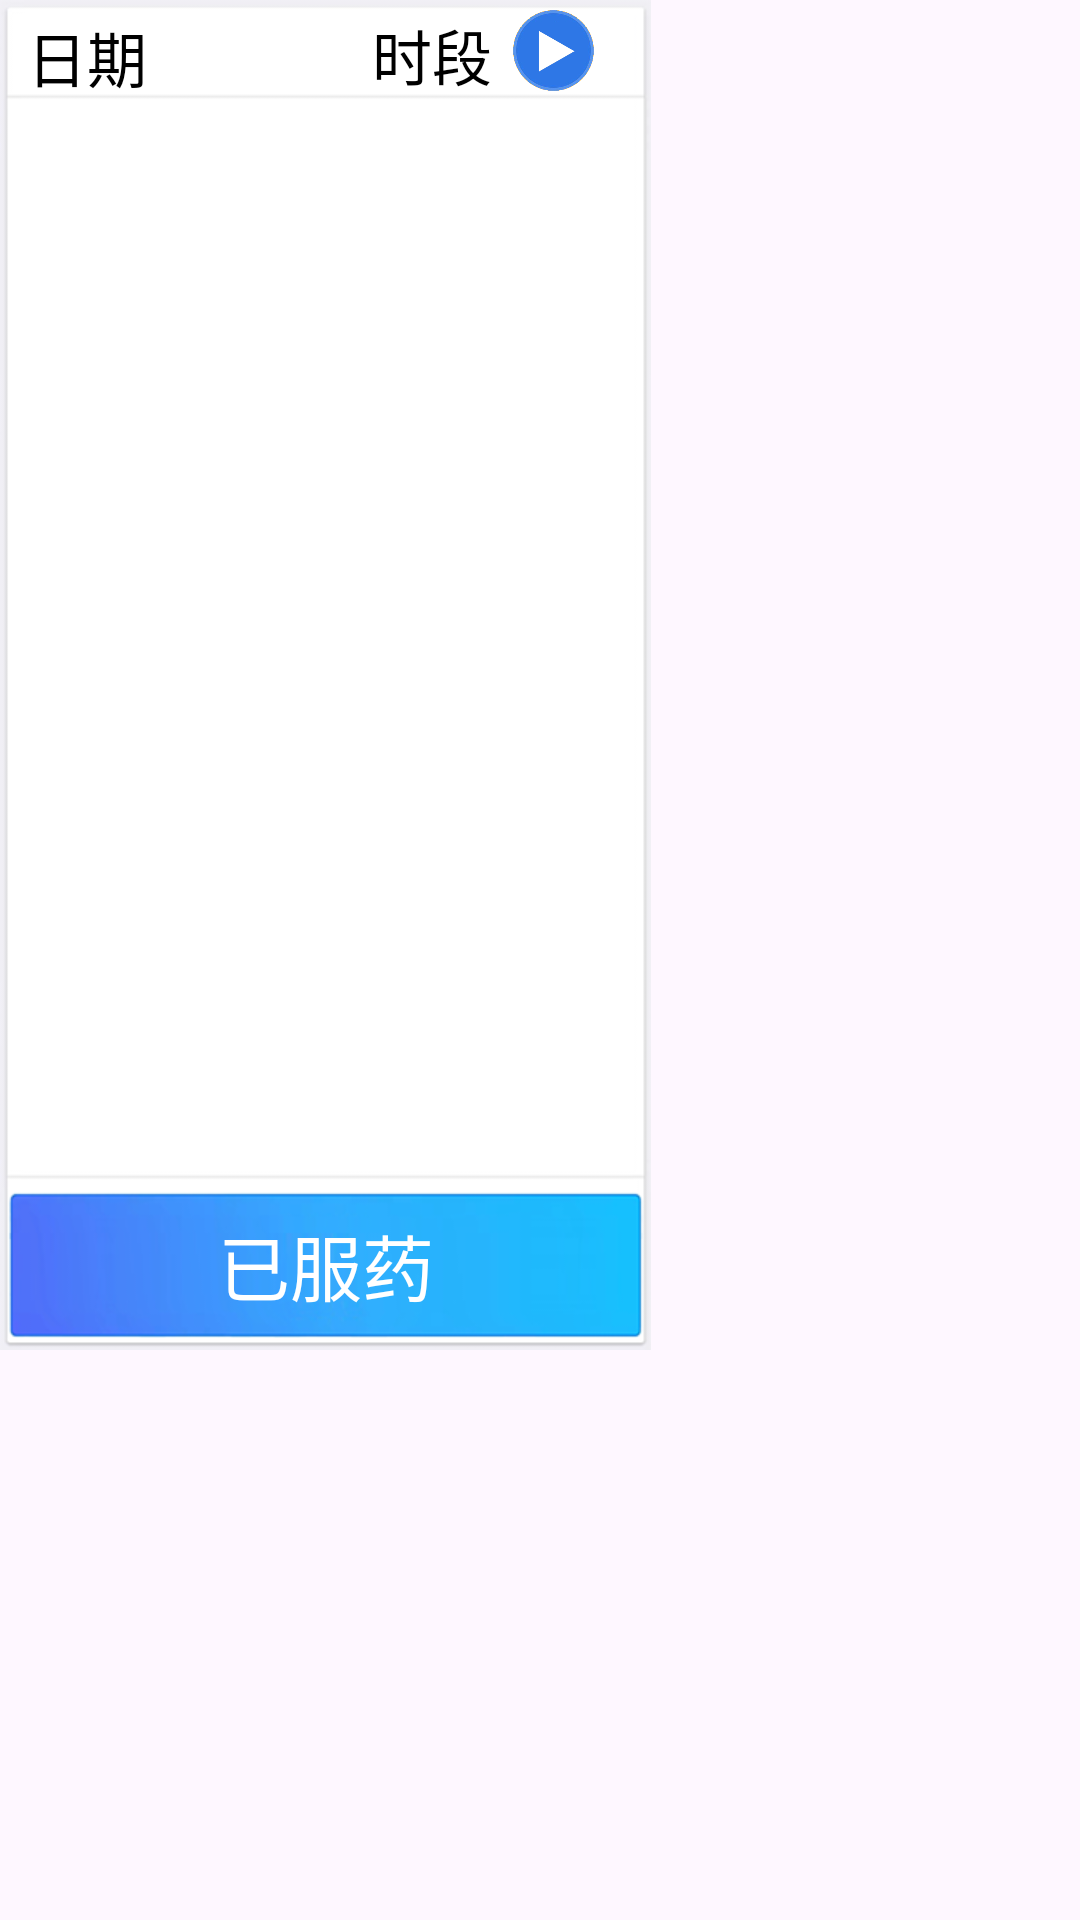

Named icons in this screenshot (1080px x 1920px) and their centers, (x,y):
voice start: (553,50)
